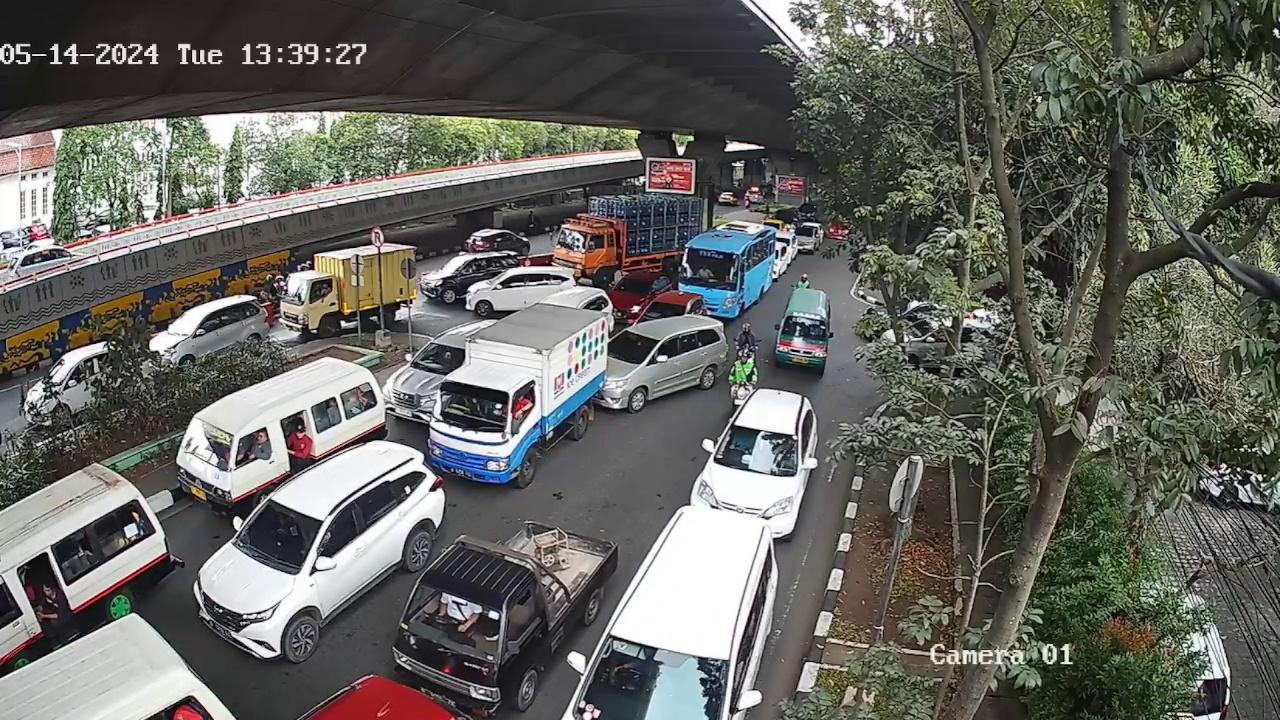pakai: (439, 593, 480, 629)
tidak-pakai: (733, 435, 758, 457)
windshield: (401, 586, 504, 658), (234, 497, 324, 575), (433, 385, 537, 423), (719, 426, 799, 471), (177, 418, 241, 472), (606, 327, 657, 364), (780, 312, 829, 348), (412, 340, 467, 371)
